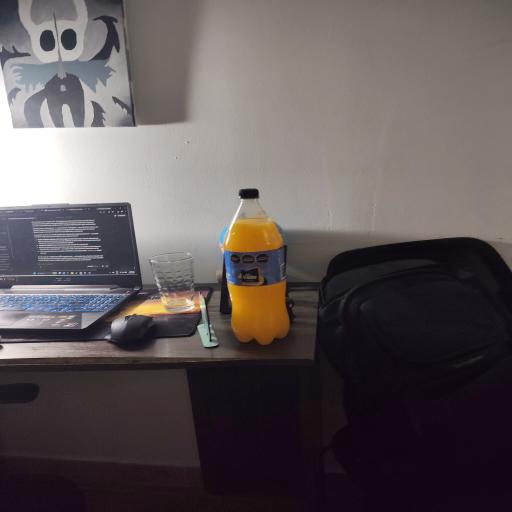Jugo del valle: (224, 189, 289, 344)
